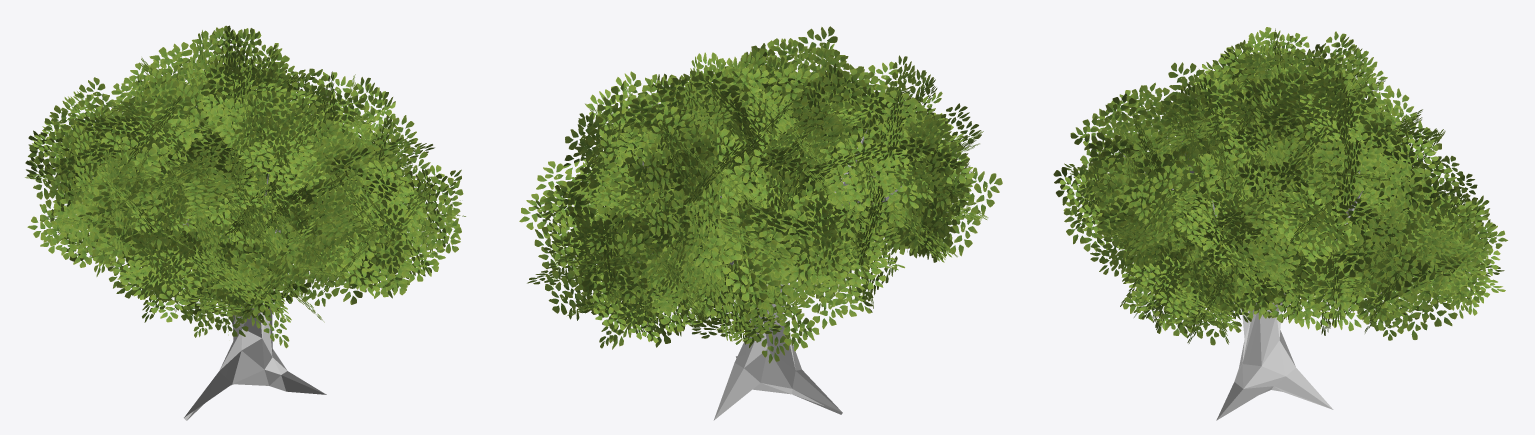
Rendered from M_shu02.fbx.
3 views of the same model, side by side, from view 1: azimuth 30°, elevation 25°; view 2: azimuth 150°, elevation 25°; view 3: azimuth 270°, elevation 25° (orthographic). The views are drawn at different scales.
Parts seen in each view (by area): view 1: M_shu02_02, M_shu02_01; view 2: M_shu02_02, M_shu02_01; view 3: M_shu02_02, M_shu02_01.
Boxes of the visible parts, <box> form: M_shu02_02: <box>25,25,465,348</box>; M_shu02_01: <box>92,106,347,420</box>; M_shu02_02: <box>519,26,1002,363</box>; M_shu02_01: <box>634,129,901,420</box>; M_shu02_02: <box>1053,27,1507,345</box>; M_shu02_01: <box>1119,80,1363,420</box>.
Size of the model in its own units: 17.36 by 14.93 by 18.49.
